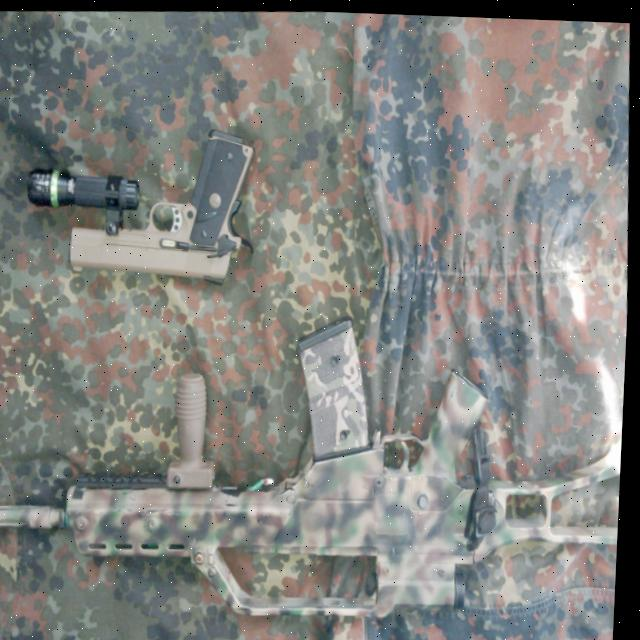firearm: (0, 291, 630, 636)
pistol: (64, 120, 263, 291)
